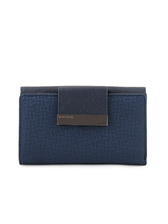other: (17, 83, 157, 173)
